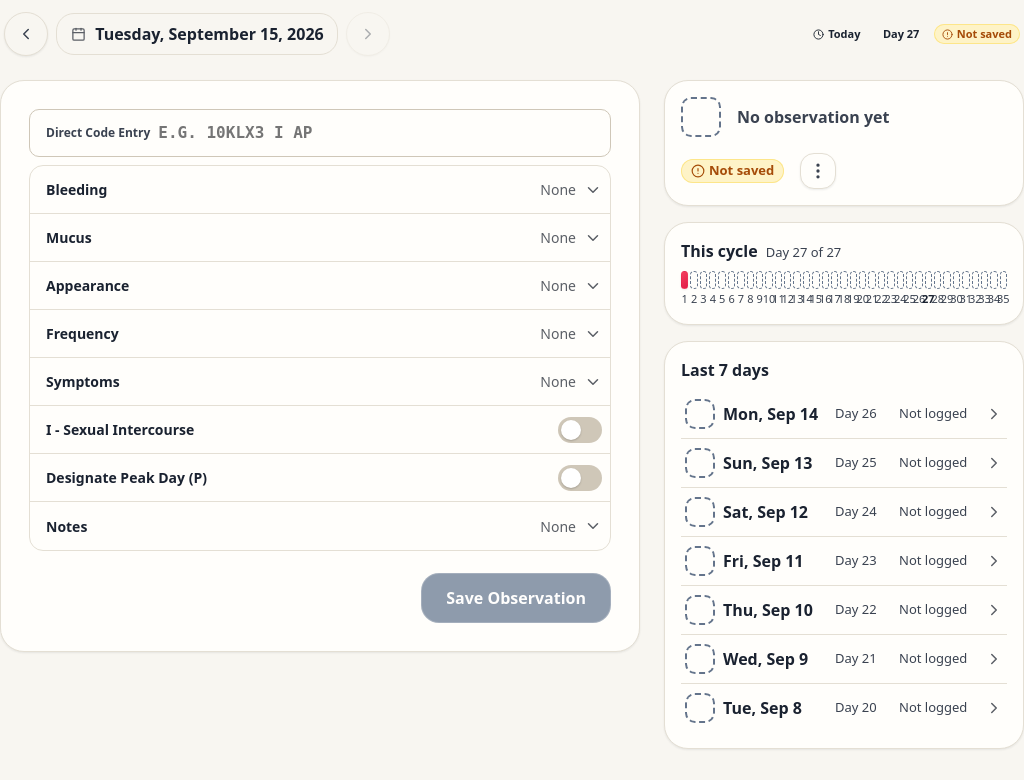
TodayView on a desktop › gives a past cycle its length up to the next cycle
In the date field named "Date": (197, 34) [56,13,338,55], type "2026-08-10"
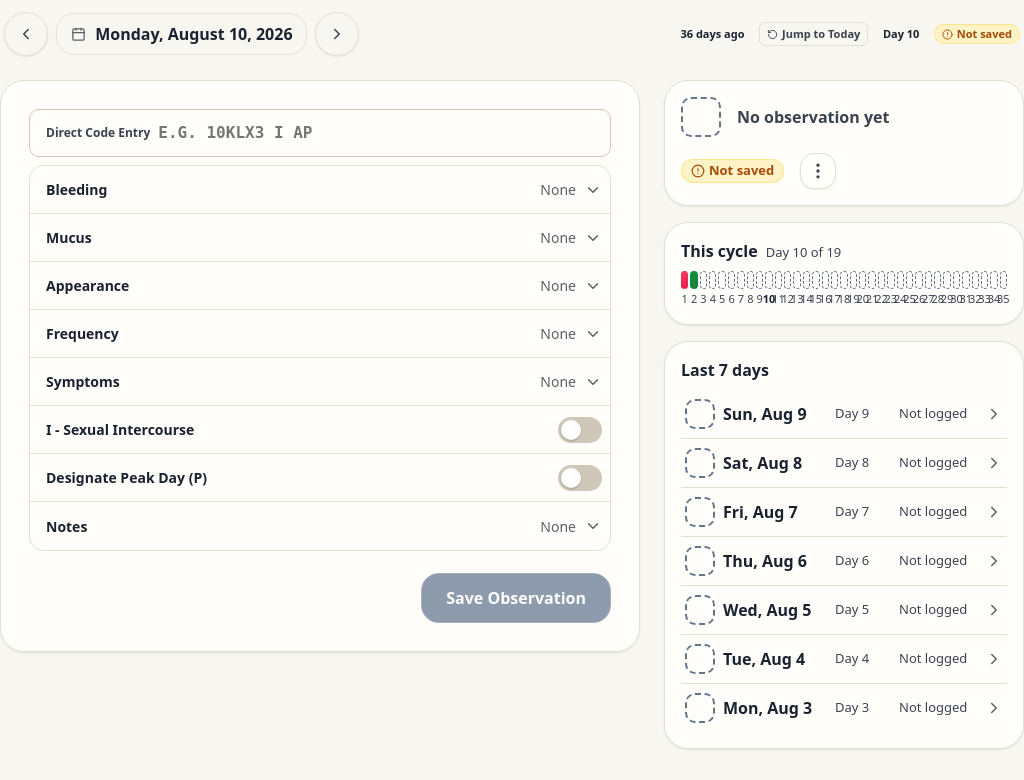
Expected: the picture named "This cycle: Day 10 of 19" is shown, [681,271,1007,308]
